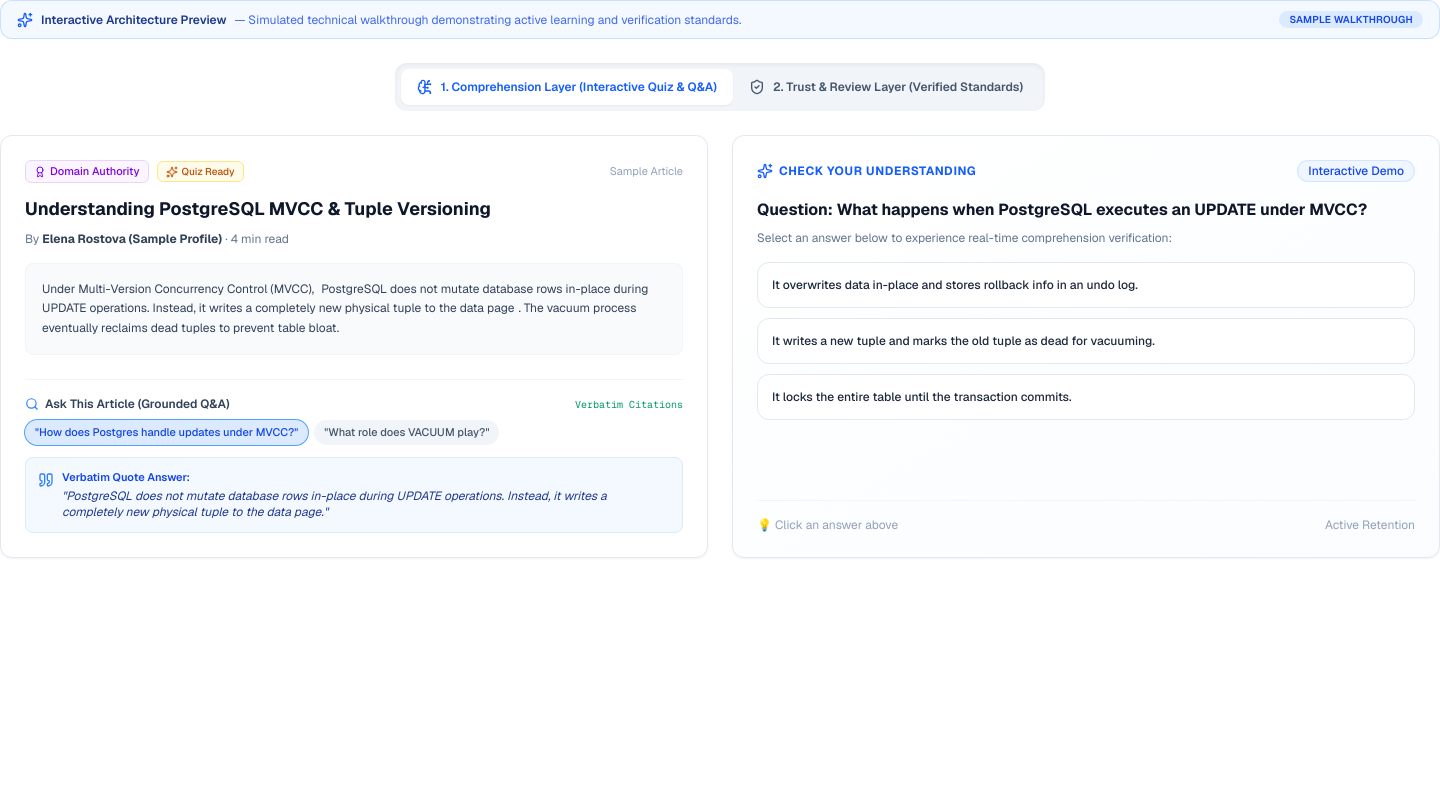
Test: InteractiveFeaturePreview › updates verbatim quote when an 'Ask This Article' query is clicked
The width and height of the screenshot is (1440, 810).
Click the button "\"What role does VACUUM play?\"": (407, 433) [314,420,499,445]
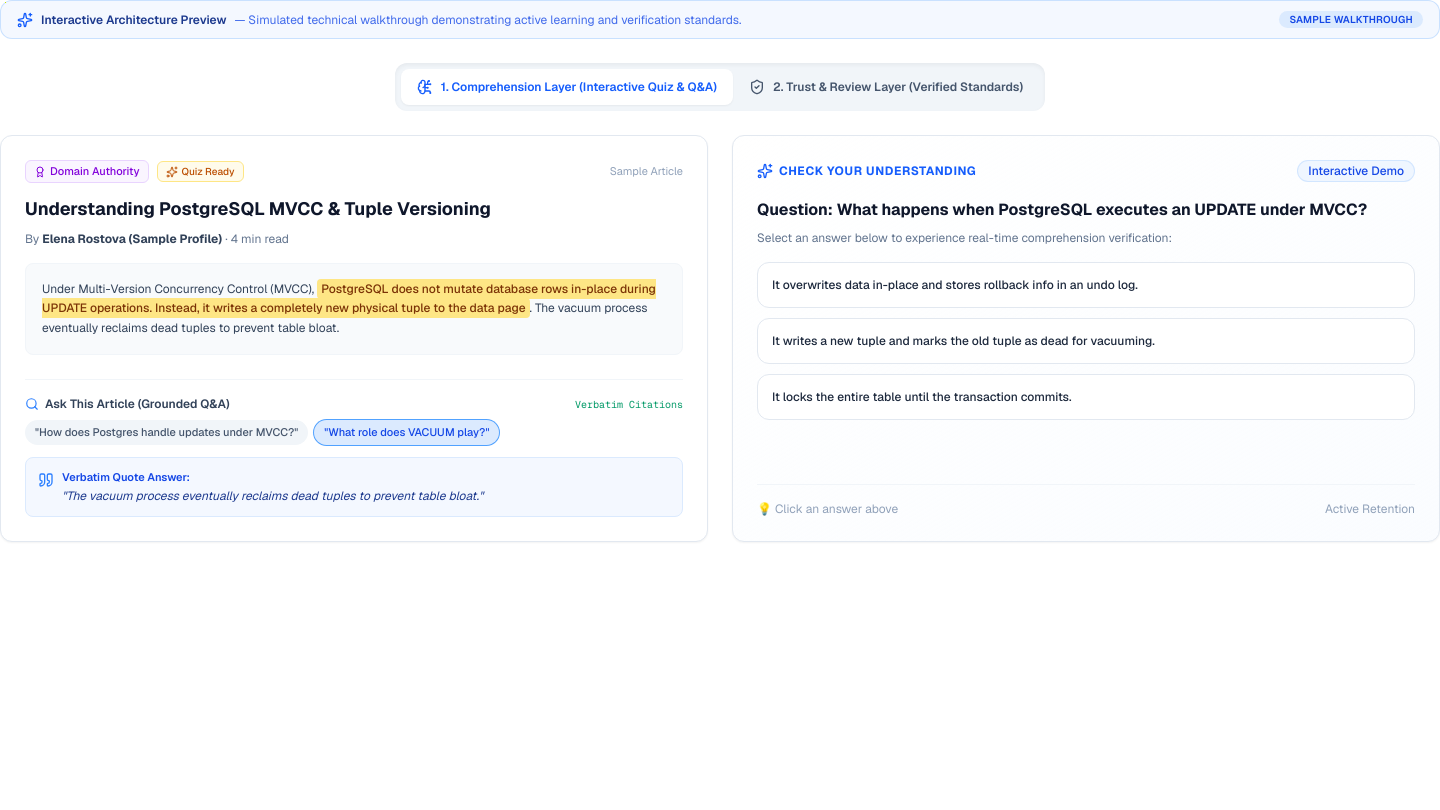
Now the text "\"The vacuum process eventually reclaims dead tuples to prevent table bloat.\"" is shown, box [62,488,483,504]
